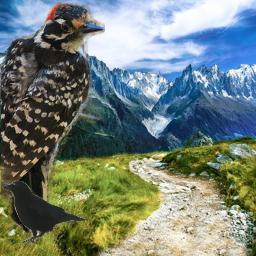Crow: (0, 179, 85, 243)
Woodpecker: (1, 0, 105, 243)
